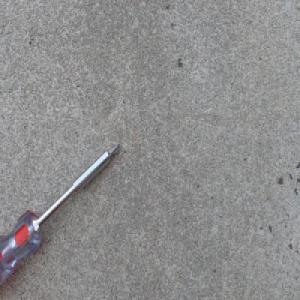Screwdriver: (0, 142, 121, 285)
